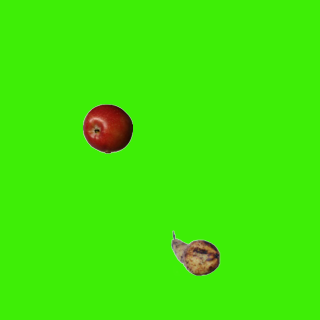Apple Braeburn: (82, 103, 132, 153)
Pear Abate: (170, 228, 220, 278)
